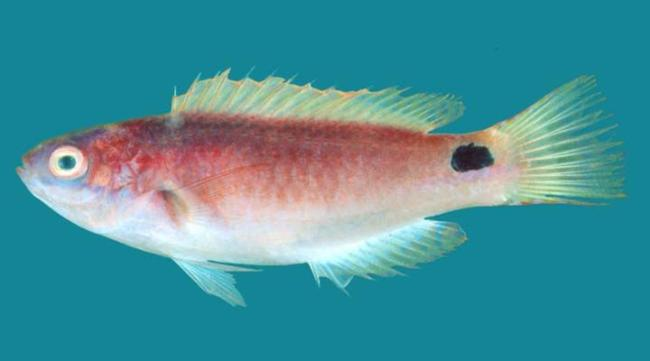fish: (18, 66, 628, 307)
